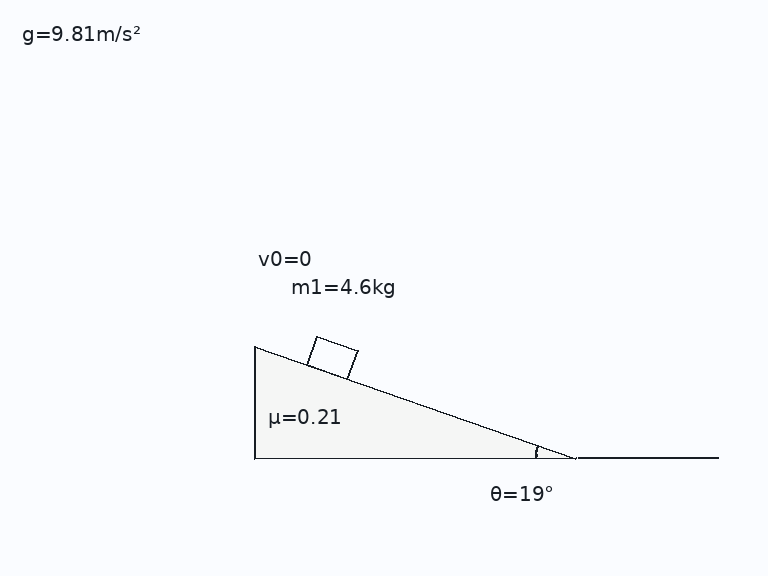block: (305, 334, 358, 381)
ramp: (253, 345, 578, 460)
